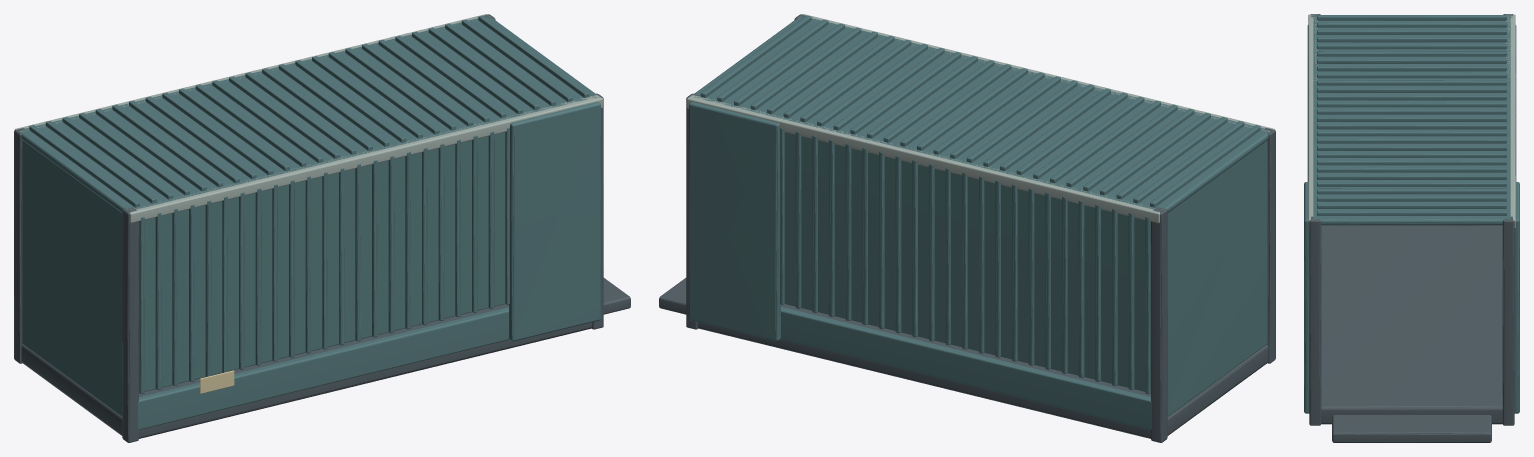
The model's file is container_open.glb.
The picture shows the model from 3 angles, left to right: view 1: azimuth 30°, elevation 25°; view 2: azimuth 150°, elevation 25°; view 3: azimuth 270°, elevation 25°; orthographic projection. The views are drawn at different scales.
Parts seen in each view (by area): view 1: Occlude_WallFront_Mesh, Occlude_Roof_Mesh, Keep_Mesh, Occlude_EndCap_Mesh, Occlude_OpenDoorL_Mesh, Occlude_WallBack_Mesh; view 2: Occlude_WallBack_Mesh, Occlude_Roof_Mesh, Keep_Mesh, Occlude_EndCap_Mesh, Occlude_OpenDoorR_Mesh, Occlude_WallFront_Mesh; view 3: Keep_Mesh, Occlude_Roof_Mesh, Occlude_WallBack_Mesh, Occlude_WallFront_Mesh, Occlude_OpenDoorL_Mesh, Occlude_OpenDoorR_Mesh.
Part boxes in pixels (x1,y1,x2,y2): Occlude_WallFront_Mesh: (127,94,602,394); Occlude_Roof_Mesh: (21,15,596,212); Keep_Mesh: (14,14,630,442); Occlude_EndCap_Mesh: (22,140,122,416); Occlude_OpenDoorL_Mesh: (509,102,600,341); Occlude_WallBack_Mesh: (15,14,490,131); Occlude_WallBack_Mesh: (687,95,1162,394); Occlude_Roof_Mesh: (694,15,1269,212); Keep_Mesh: (659,14,1275,442); Occlude_EndCap_Mesh: (1167,140,1267,416); Occlude_OpenDoorR_Mesh: (689,102,780,341); Occlude_WallFront_Mesh: (799,14,1274,131); Keep_Mesh: (1309,14,1514,442); Occlude_Roof_Mesh: (1313,15,1510,225); Occlude_WallBack_Mesh: (1506,14,1516,228); Occlude_WallFront_Mesh: (1307,14,1317,228); Occlude_OpenDoorL_Mesh: (1304,182,1309,413); Occlude_OpenDoorR_Mesh: (1514,182,1519,413).
Size of the model in its own units: 6.33 by 2.75 by 2.57.
